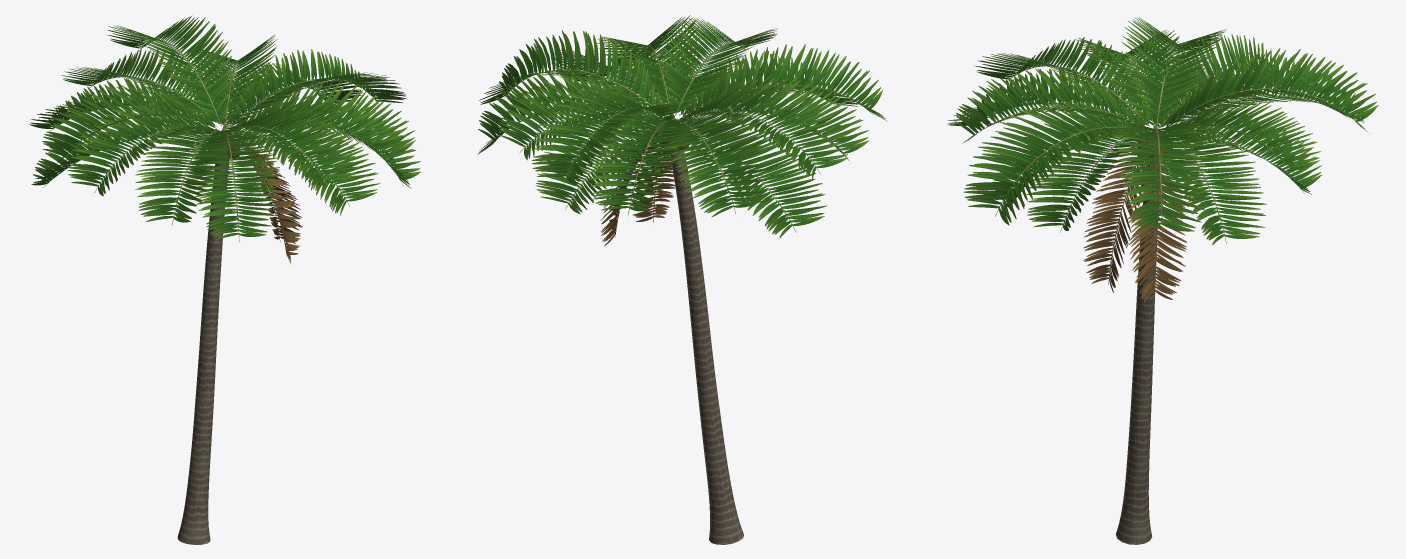
The model's file is palm_tree_01.glb.
3 views of the same model, side by side, from view 1: azimuth 30°, elevation 25°; view 2: azimuth 150°, elevation 25°; view 3: azimuth 270°, elevation 25° (orthographic). The views are drawn at different scales.
Parts seen in each view (by area): view 1: palm_tree_01; view 2: palm_tree_01; view 3: palm_tree_01.
Boxes of the visible parts, bbox=[...] form: palm_tree_01: bbox=[29, 15, 420, 544]; palm_tree_01: bbox=[477, 15, 887, 544]; palm_tree_01: bbox=[947, 17, 1378, 544].
Size of what is drawn, in the model's own units: 7.45 by 8.8 by 7.47.
3 materials, 3 textured.
